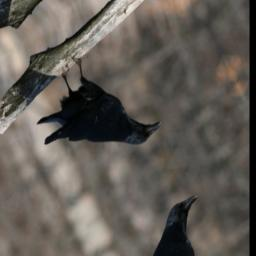Crow: (19, 25, 166, 199)
